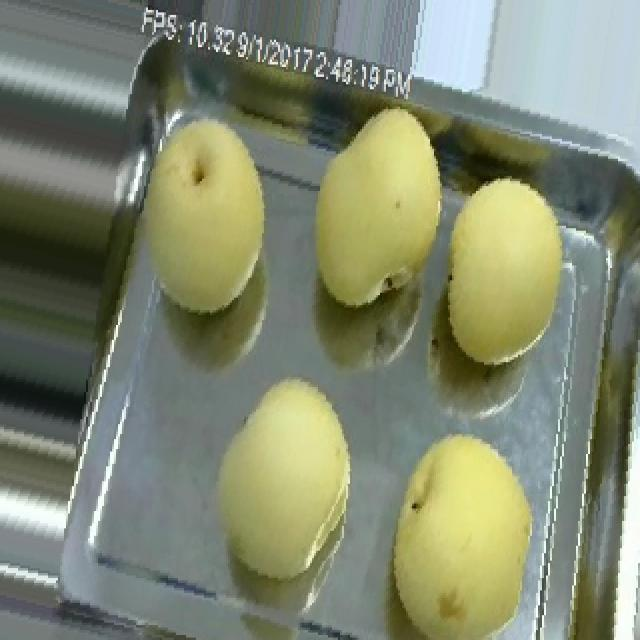Fruit: (186, 355, 376, 603), (290, 90, 472, 328), (366, 416, 552, 640), (114, 100, 288, 338), (418, 159, 588, 382)
